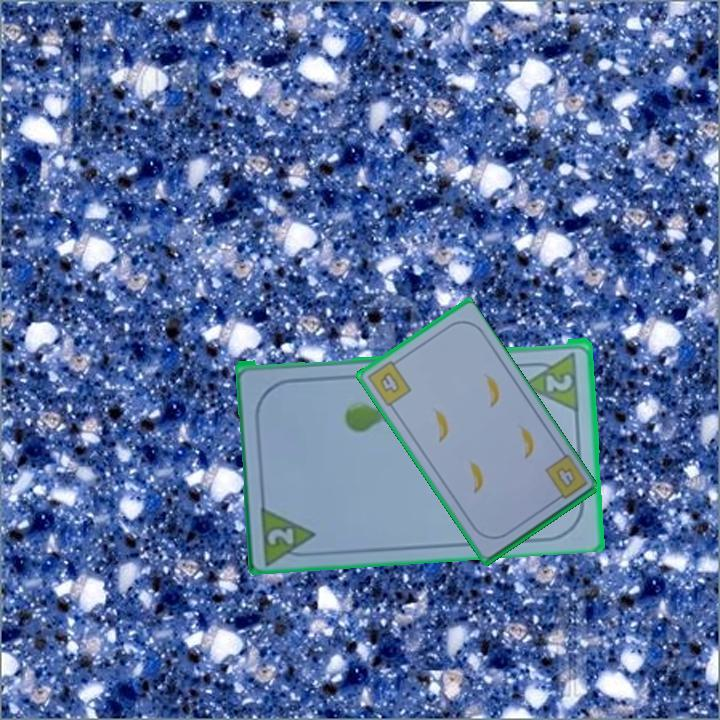2p: (257, 499, 321, 564), (543, 370, 575, 394)
4b: (364, 355, 414, 409), (552, 463, 579, 491)
